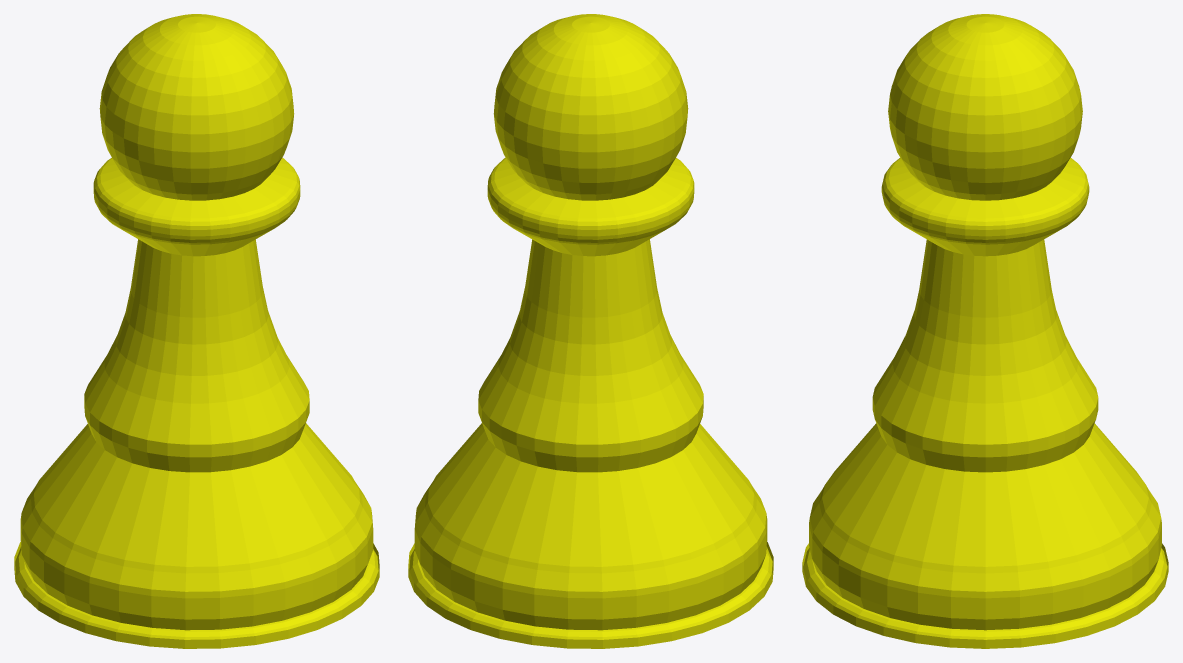
The model's file is yellowPawnParent.fbx.
The picture shows the model from 3 angles, left to right: view 1: azimuth 30°, elevation 25°; view 2: azimuth 150°, elevation 25°; view 3: azimuth 270°, elevation 25°; orthographic projection.
Visible parts, largest first — view 1: 円柱, 球; view 2: 円柱, 球; view 3: 円柱, 球.
Part boxes in pixels (box(x1,y1,x2,y2)): 円柱: box(14, 157, 379, 648); 球: box(99, 14, 294, 200); 円柱: box(408, 157, 773, 648); 球: box(493, 14, 688, 200); 円柱: box(802, 158, 1168, 648); 球: box(888, 14, 1082, 200).
Bounding box in the file's own units: 200 × 333 × 200.
